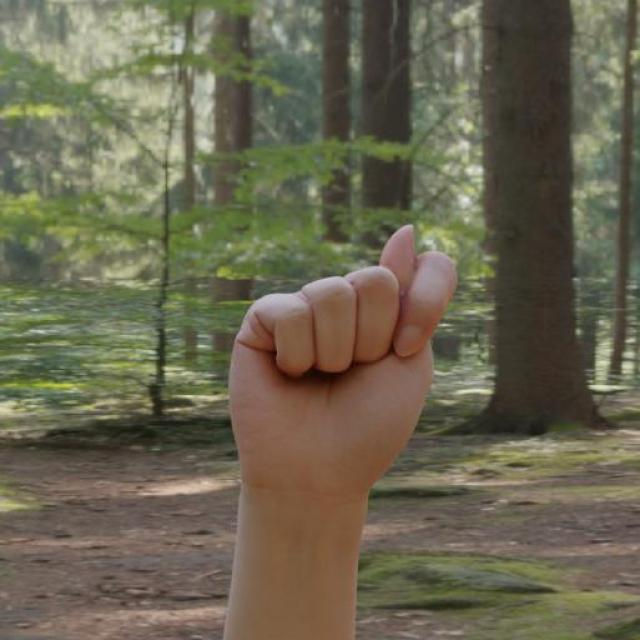T: (222, 218, 464, 498)
